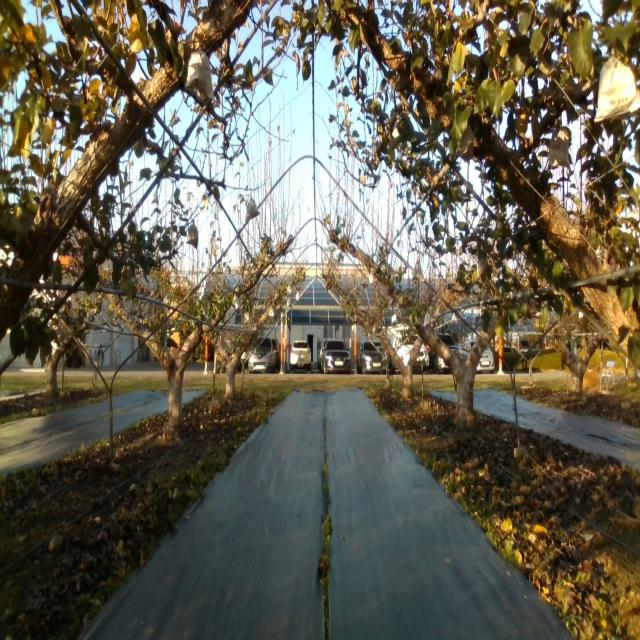pearbags: (593, 54, 640, 122), (186, 51, 214, 101), (547, 128, 571, 168), (245, 197, 259, 222), (188, 222, 198, 248), (412, 262, 425, 281)
